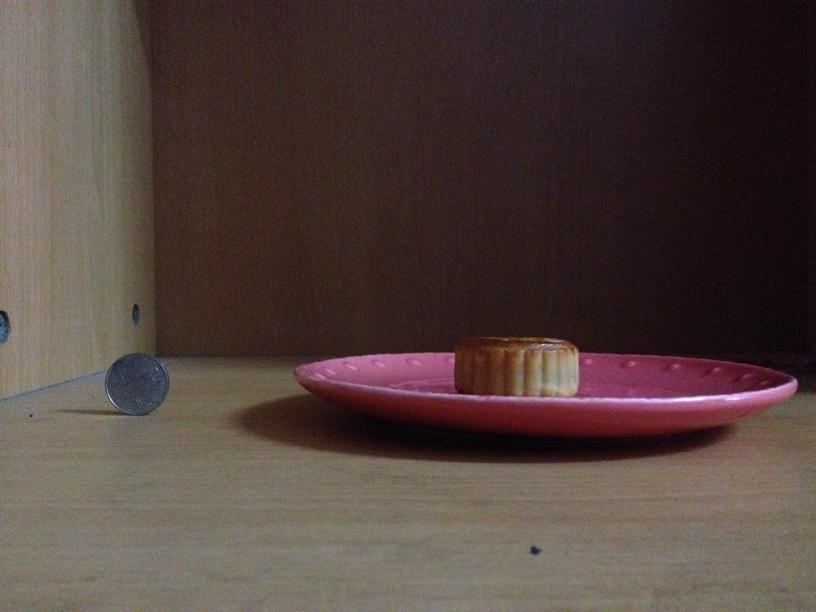coin: (105, 351, 169, 417)
mooncake: (457, 335, 580, 397)
